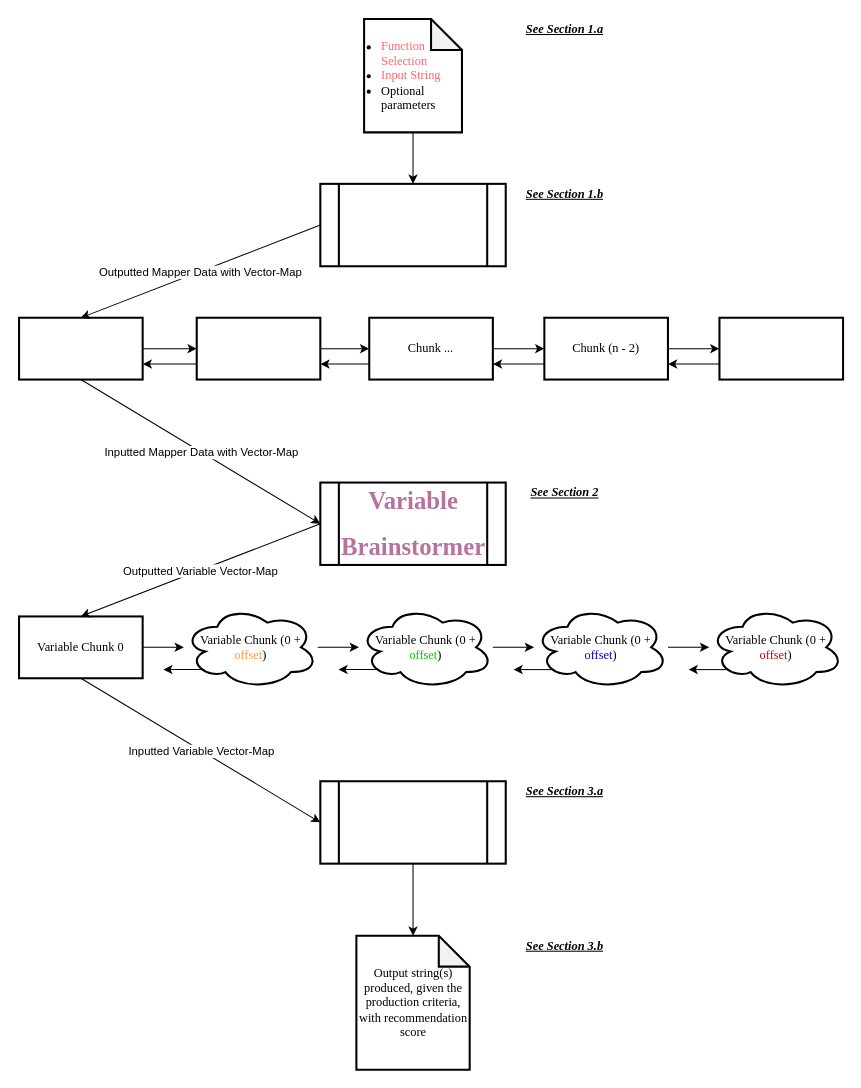
This 861x1088 diagram has some shape labels left out. The box of each missing label's shape, as (x1, y1, x2, y2) in pixels:
Analyzer: (319, 780, 506, 864)
Chunk (n - 1): (718, 316, 844, 380)
Chunk 0: (18, 316, 143, 380)
Chunk 1: (195, 316, 321, 380)
Mapper: (319, 182, 506, 267)
